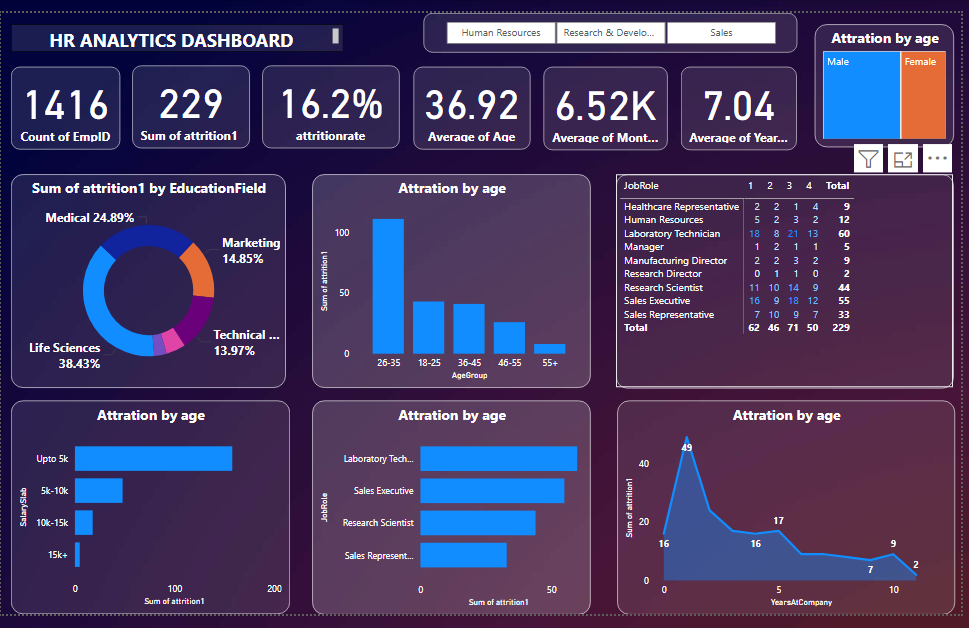

The page's visual inventory and layout, read from the dashboard file:
{"tool":"powerbi","page":{"name":"Page 1","canvas":[1280,802],"ordinal":0},"visuals":[{"type":"card","fields":{"Values":["CountNonNull(HR_Analytics (1).EmpID)"]},"box":[12.6,72,145.7,110],"z":0},{"type":"card","fields":{"Values":["Sum(HR_Analytics (1).attrition )"]},"box":[175.4,70.6,157.1,110],"z":1000},{"type":"card","fields":{"Values":["HR_Analytics (1).attritionrate"]},"box":[348.3,70.6,182.9,110],"z":2000},{"type":"card","fields":{"Values":["Avg(HR_Analytics (1).Age)"]},"box":[549.7,72,155.7,110],"z":3000},{"type":"card","fields":{"Values":["Avg(HR_Analytics (1).MonthlyIncome)"]},"box":[722.6,72,165.7,111.4],"z":4000},{"type":"card","fields":{"Values":["Avg(HR_Analytics (1).YearsAtCompany)"]},"box":[906.9,72,154.3,111.4],"z":5000},{"type":"donutChart","fields":{"Category":["HR_Analytics (1).EducationField"],"Y":["Sum(HR_Analytics (1).attrition1 )"]},"box":[13,214.7,366.5,284.9],"z":6000},{"type":"clusteredColumnChart","title":"Attration by age","fields":{"Category":["HR_Analytics (1).AgeGroup"],"Y":["Sum(HR_Analytics (1).attrition1 )"]},"box":[414.7,214.7,371.3,284.9],"z":7000},{"type":"pivotTable","fields":{"Rows":["HR_Analytics (1).JobRole"],"Columns":["HR_Analytics (1).JobSatisfaction"],"Values":["Sum(HR_Analytics (1).attrition1 )"]},"box":[819.7,214.9,450,285.7],"z":8000},{"type":"barChart","title":"Attration by age","fields":{"Category":["HR_Analytics (1).SalarySlab"],"Y":["Sum(HR_Analytics (1).attrition1 )"]},"box":[13,517,371.7,285],"z":9000},{"type":"barChart","title":"Attration by age","fields":{"Category":["HR_Analytics (1).JobRole"],"Y":["Sum(HR_Analytics (1).attrition1 )"]},"box":[415.4,516.3,371.4,285.7],"z":10000},{"type":"areaChart","title":"Attration by age","fields":{"Category":["HR_Analytics (1).YearsAtCompany"],"Y":["Sum(HR_Analytics (1).attrition1 )"]},"box":[821.1,516.3,450,285.7],"z":11000},{"type":"treemap","title":"Attration by age","fields":{"Group":["HR_Analytics (1).Gender"],"Values":["Sum(HR_Analytics (1).attrition1 )"]},"box":[1084.3,15.7,185.7,164.3],"z":12000},{"type":"slicer","fields":{"Values":["HR_Analytics (1).Department"]},"box":[562.9,0,498.6,52.9],"z":13000},{"type":"textbox","box":[12.9,15.7,442.9,37.1],"z":14000}]}

Visuals, with their boxes in screenshot pixels (x1, y1, x2, y2):
card - CountNonNull(HR_Analytics (1).EmpID): [left=9, top=64, right=118, bottom=146]
card - Sum(HR_Analytics (1).attrition ): [left=131, top=63, right=248, bottom=145]
card - HR_Analytics (1).attritionrate: [left=260, top=63, right=397, bottom=145]
card - Avg(HR_Analytics (1).Age): [left=410, top=64, right=527, bottom=146]
card - Avg(HR_Analytics (1).MonthlyIncome): [left=539, top=64, right=663, bottom=147]
card - Avg(HR_Analytics (1).YearsAtCompany): [left=677, top=64, right=792, bottom=147]
donutChart - HR_Analytics (1).EducationField x Sum(HR_Analytics (1).attrition1 ): [left=10, top=170, right=283, bottom=383]
"Attration by age" clusteredColumnChart: [left=310, top=170, right=587, bottom=383]
pivotTable - HR_Analytics (1).JobRole x HR_Analytics (1).JobSatisfaction: [left=612, top=171, right=948, bottom=384]
"Attration by age" barChart: [left=10, top=396, right=287, bottom=609]
"Attration by age" barChart: [left=310, top=396, right=587, bottom=609]
"Attration by age" areaChart: [left=613, top=396, right=949, bottom=609]
"Attration by age" treemap: [left=810, top=22, right=948, bottom=144]
slicer - HR_Analytics (1).Department: [left=420, top=10, right=792, bottom=50]
textbox: [left=10, top=22, right=340, bottom=50]
